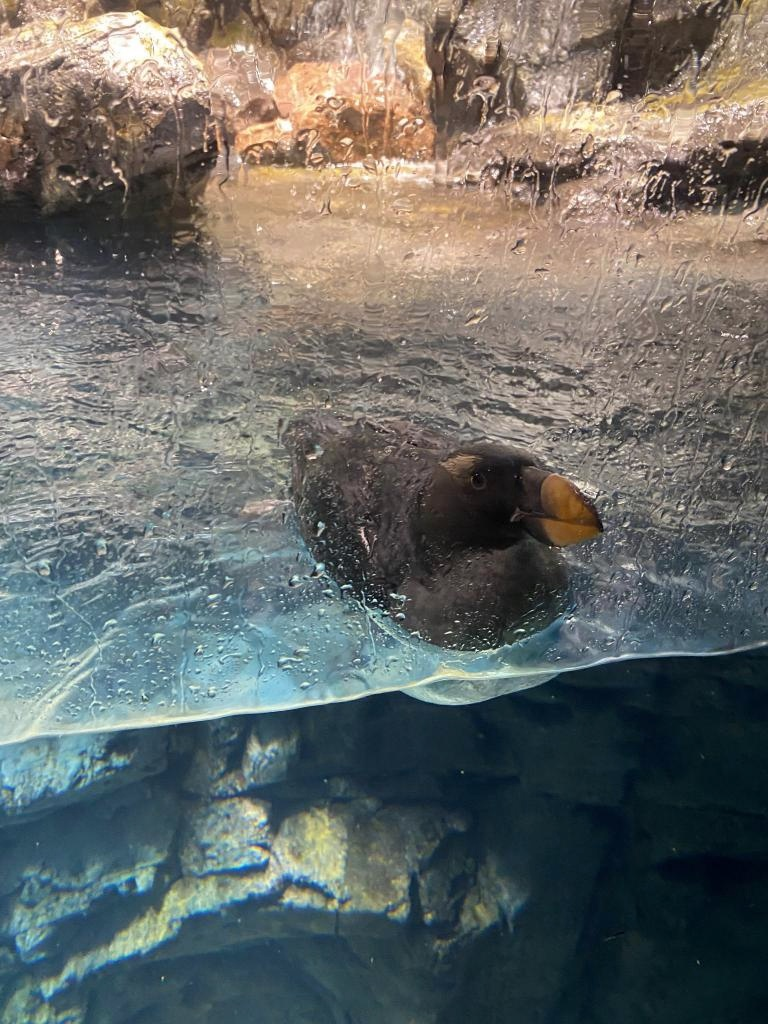puffin: (276, 388, 608, 708)
